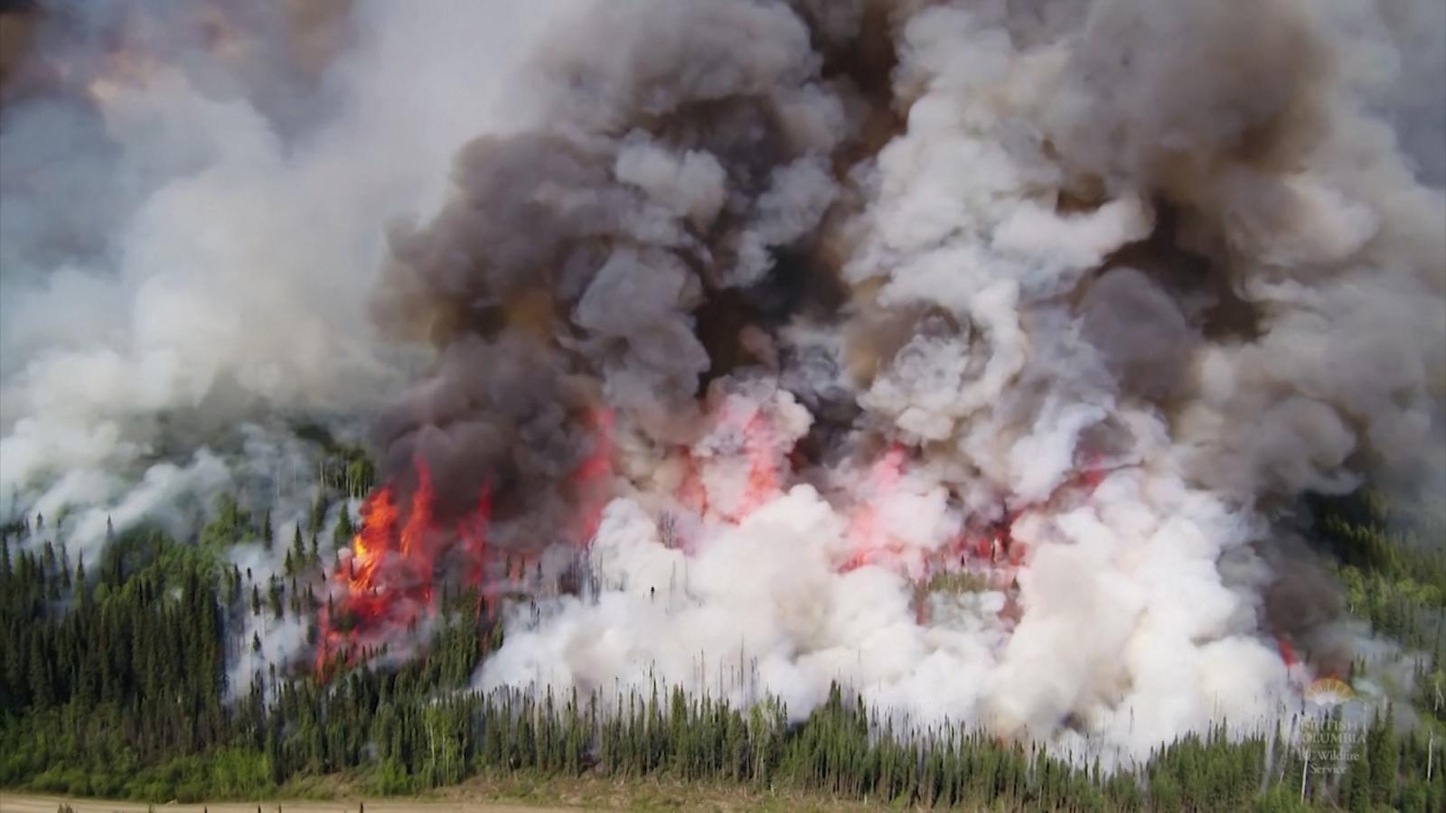fire: (0, 85, 1432, 795), (547, 378, 1143, 692), (240, 445, 520, 707), (1202, 510, 1381, 759)
